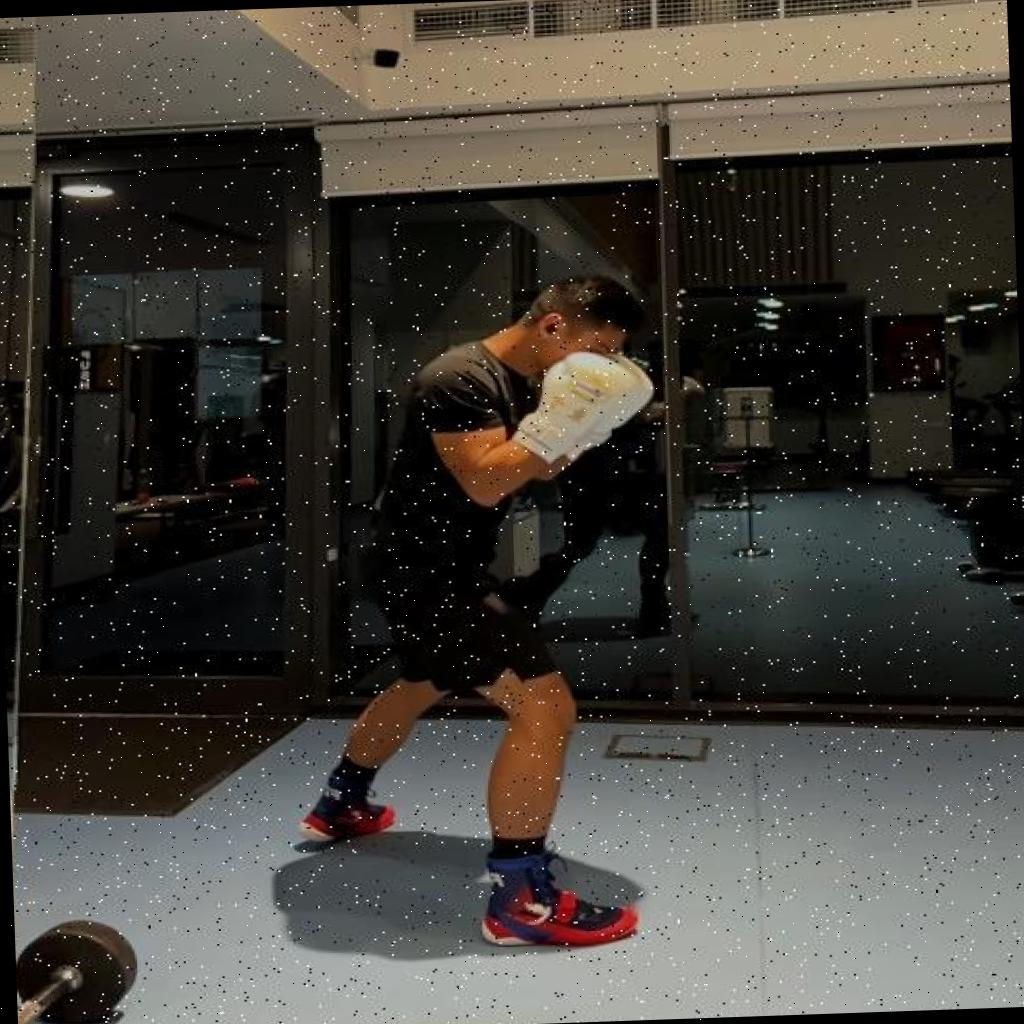no punch: (272, 271, 670, 962)
